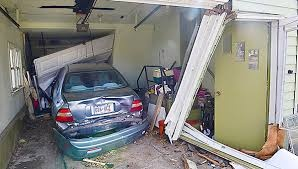Dent: (58, 97, 140, 130)
